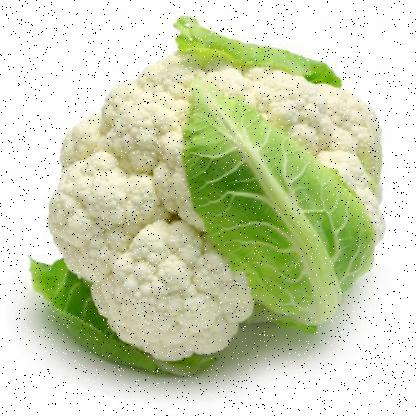cauliflower: (48, 33, 388, 359)
